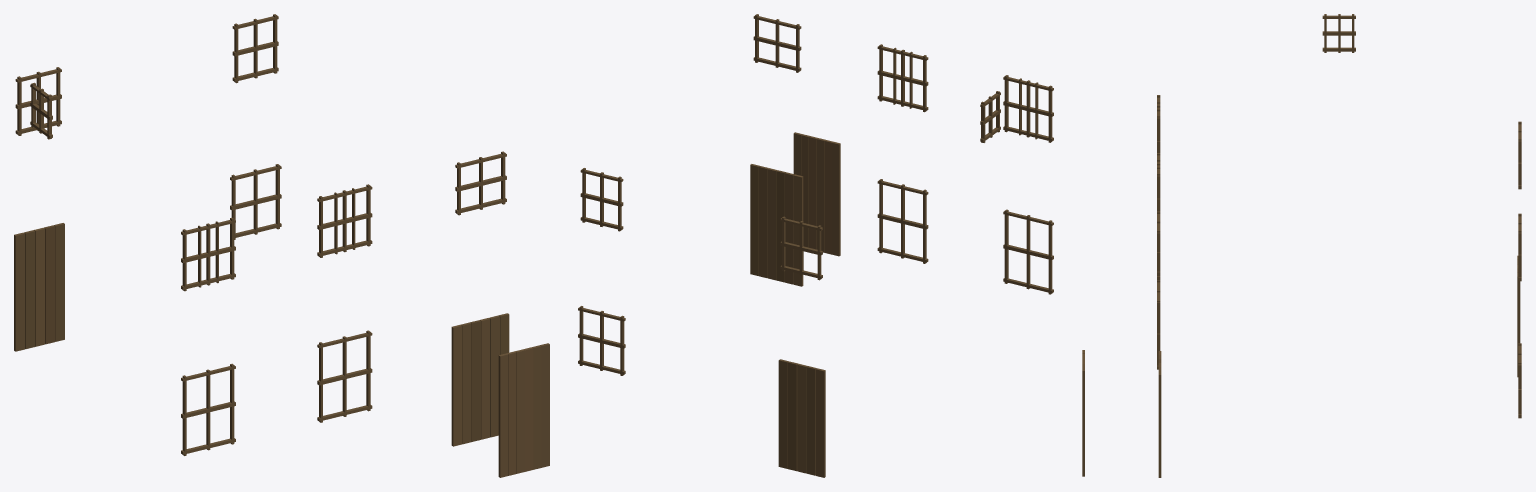
Rendered from SM_Bld_200_Wood.glb.
The picture shows the model from 3 angles, left to right: view 1: azimuth 30°, elevation 25°; view 2: azimuth 150°, elevation 25°; view 3: azimuth 270°, elevation 25°; orthographic projection. The views are drawn at different scales.
Parts seen in each view (by area): view 1: SM_Bld_200_Wood; view 2: SM_Bld_200_Wood; view 3: SM_Bld_200_Wood.
Boxes of the visible parts, x1=… form: SM_Bld_200_Wood: x1=14, y1=14, x2=549, y2=477; SM_Bld_200_Wood: x1=578, y1=14, x2=1053, y2=477; SM_Bld_200_Wood: x1=1082, y1=14, x2=1521, y2=477.
Size of the model in its own units: 6.6 by 6.15 by 7.92.
